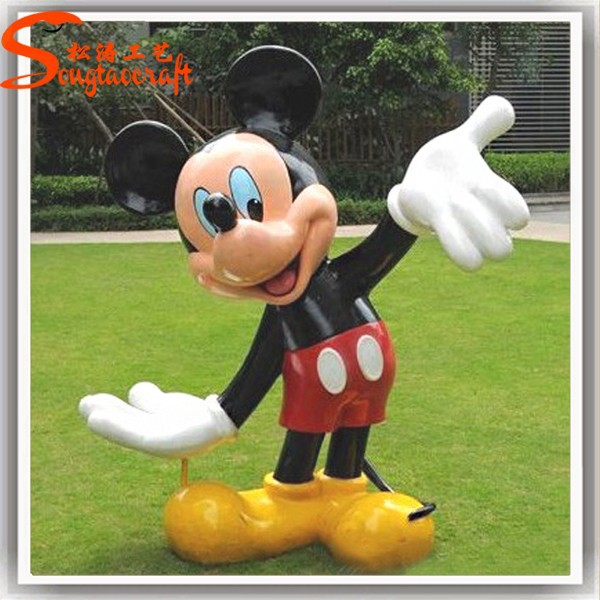Mickey: (100, 45, 344, 309)
